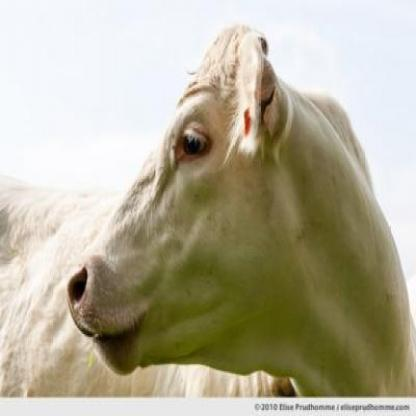lower: (105, 347, 120, 358)
mouth: (66, 263, 140, 379)
upper: (94, 292, 107, 308)
